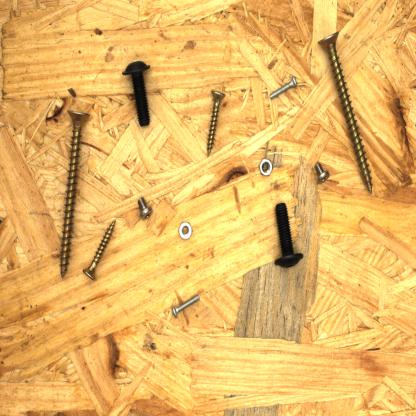screw: (316, 29, 375, 198), (58, 107, 92, 284), (81, 216, 118, 282), (272, 200, 306, 270), (120, 58, 153, 128), (203, 86, 227, 158), (267, 73, 302, 101), (169, 292, 202, 320), (312, 160, 332, 186), (136, 195, 154, 223)
